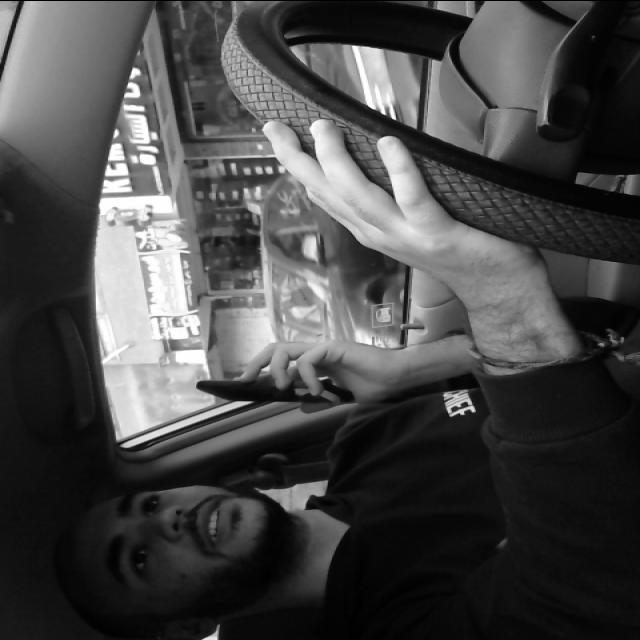mobile use: (187, 372, 358, 410)
